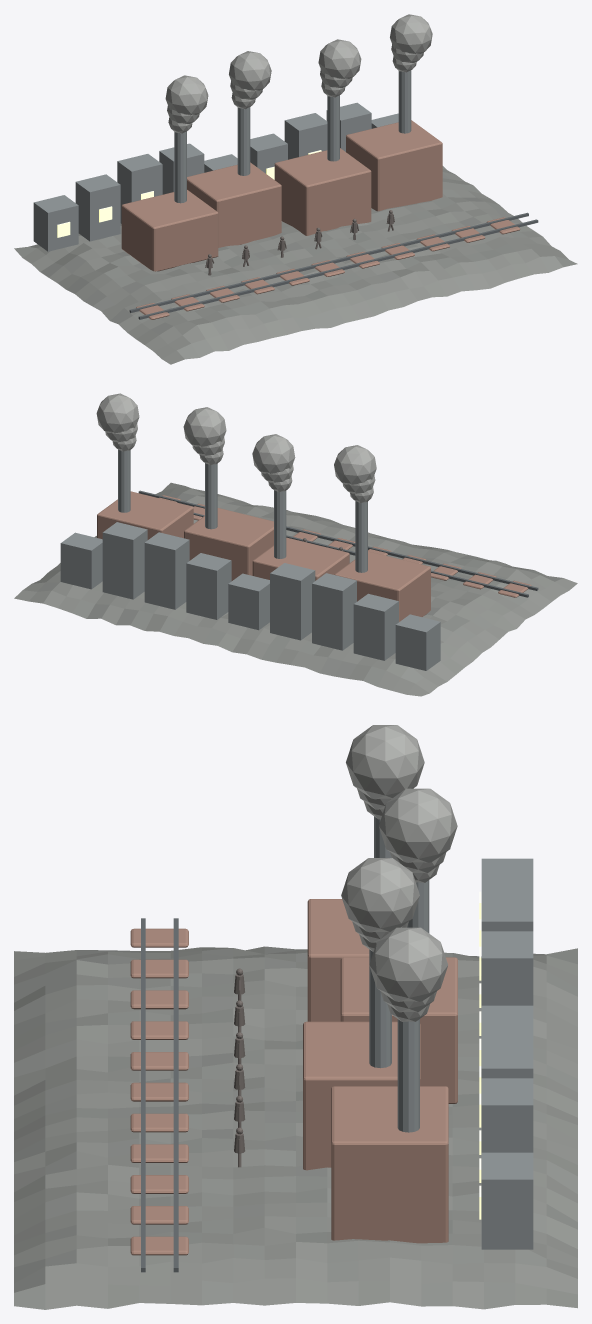
File: world-08-energy.glb
3 views of the same model, one above another, from view 1: azimuth 30°, elevation 25°; view 2: azimuth 150°, elevation 25°; view 3: azimuth 270°, elevation 25° (orthographic). The views are drawn at different scales.
Visible parts, largest first — view 1: BH_WORLD_08_Terrain.003, BH_WORLD_08_Batch_01, BH_WORLD_08_Batch_02, BH_WORLD_08_Batch_03, BH_WORLD_08_Batch_04, BH_WORLD_08_Batch_06, BH_WORLD_08_Batch_05; view 2: BH_WORLD_08_Batch_02, BH_WORLD_08_Terrain.003, BH_WORLD_08_Batch_01, BH_WORLD_08_Batch_03, BH_WORLD_08_Batch_04; view 3: BH_WORLD_08_Terrain.003, BH_WORLD_08_Batch_01, BH_WORLD_08_Batch_02, BH_WORLD_08_Batch_03, BH_WORLD_08_Batch_04, BH_WORLD_08_Batch_06, BH_WORLD_08_Batch_05.
Boxes of the visible parts, bbox=[...] form: BH_WORLD_08_Terrain.003: bbox=[14, 166, 577, 364]; BH_WORLD_08_Batch_01: bbox=[121, 120, 520, 319]; BH_WORLD_08_Batch_02: bbox=[33, 70, 411, 251]; BH_WORLD_08_Batch_03: bbox=[165, 14, 432, 133]; BH_WORLD_08_Batch_04: bbox=[129, 212, 538, 319]; BH_WORLD_08_Batch_06: bbox=[205, 210, 394, 275]; BH_WORLD_08_Batch_05: bbox=[57, 150, 321, 237]; BH_WORLD_08_Batch_02: bbox=[60, 449, 440, 670]; BH_WORLD_08_Terrain.003: bbox=[14, 482, 577, 696]; BH_WORLD_08_Batch_01: bbox=[97, 491, 531, 621]; BH_WORLD_08_Batch_03: bbox=[96, 393, 376, 503]; BH_WORLD_08_Batch_04: bbox=[138, 490, 538, 597]; BH_WORLD_08_Terrain.003: bbox=[14, 946, 577, 1309]; BH_WORLD_08_Batch_01: bbox=[130, 899, 457, 1255]; BH_WORLD_08_Batch_02: bbox=[369, 816, 533, 1249]; BH_WORLD_08_Batch_03: bbox=[341, 725, 457, 1021]; BH_WORLD_08_Batch_04: bbox=[141, 918, 178, 1272]; BH_WORLD_08_Batch_06: bbox=[234, 968, 245, 1167]; BH_WORLD_08_Batch_05: bbox=[479, 891, 481, 1219].
Bounding box in the file's own units: 18 × 7.85 × 12.
